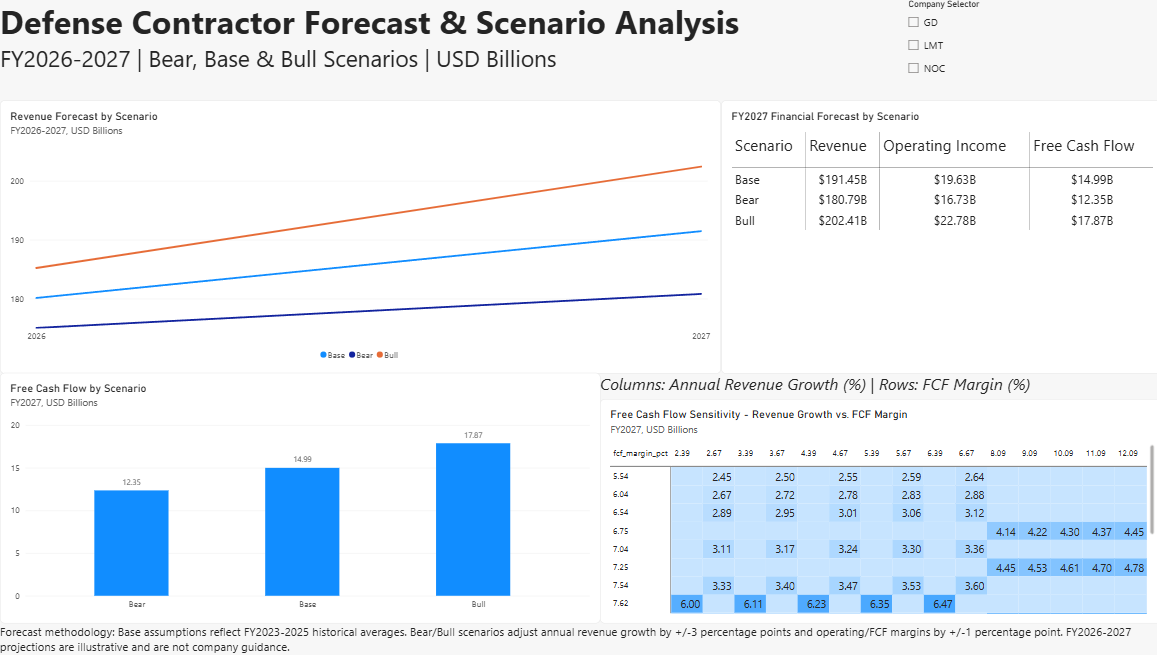

The page's visual inventory and layout, read from the dashboard file:
{"tool":"powerbi","page":{"name":"Forecast & Scenarios","canvas":[1920,1080],"ordinal":2},"visuals":[{"type":"textbox","box":[0,0,1488.6,165.9],"z":0},{"type":"lineChart","title":"Revenue Forecast by Scenario","fields":{"Category":["ScenarioForecast.year"],"Series":["ScenarioForecast.scenario"],"Y":["Sum(ScenarioForecast.revenue)"]},"box":[0,165.9,1187.6,450.4],"z":1},{"type":"slicer","title":"Company Selector","fields":{"Values":["Companies.ticker"]},"box":[1488.6,0,431.4,165.9],"z":2},{"type":"tableEx","title":"FY2027 Financial Forecast by Scenario","fields":{"Values":["ScenarioForecast.scenario","Sum(ScenarioForecast.revenue)","Sum(ScenarioForecast.operating_income)","Sum(ScenarioForecast.free_cash_flow)"]},"box":[1187.6,165.9,732.4,450.4],"z":3},{"type":"clusteredColumnChart","title":"Free Cash Flow by Scenario","fields":{"Category":["ScenarioForecast.scenario"],"Y":["Sum(ScenarioForecast.free_cash_flow)"]},"box":[0,616.3,988.4,412.4],"z":4},{"type":"pivotTable","title":"Free Cash Flow Sensitivity - Revenue Growth vs. FCF Margin","fields":{"Columns":["FCFSensitivity.revenue_growth_pct"],"Rows":["FCFSensitivity.fcf_margin_pct"],"Values":["Sum(FCFSensitivity.fcf_2027)"]},"box":[988.4,659,931.6,369.8],"z":5},{"type":"textbox","box":[988.4,616.3,931.6,42.7],"z":6},{"type":"textbox","box":[0,1028.7,1920,52.1],"z":7}]}

Visuals, with their boxes in screenshot pixels (x1, y1, x2, y2), scaled from the page's 1920x1080 canvas onto the 1157x655 screenshot:
textbox: pyautogui.locateOnScreen(0, 0, 897, 101)
"Revenue Forecast by Scenario" lineChart: pyautogui.locateOnScreen(0, 101, 716, 374)
"Company Selector" slicer: pyautogui.locateOnScreen(897, 0, 1156, 101)
"FY2027 Financial Forecast by Scenario" tableEx: pyautogui.locateOnScreen(716, 101, 1156, 374)
"Free Cash Flow by Scenario" clusteredColumnChart: pyautogui.locateOnScreen(0, 374, 596, 624)
"Free Cash Flow Sensitivity - Revenue Growth vs. FCF Margin" pivotTable: pyautogui.locateOnScreen(596, 400, 1156, 624)
textbox: pyautogui.locateOnScreen(596, 374, 1156, 400)
textbox: pyautogui.locateOnScreen(0, 624, 1156, 654)
